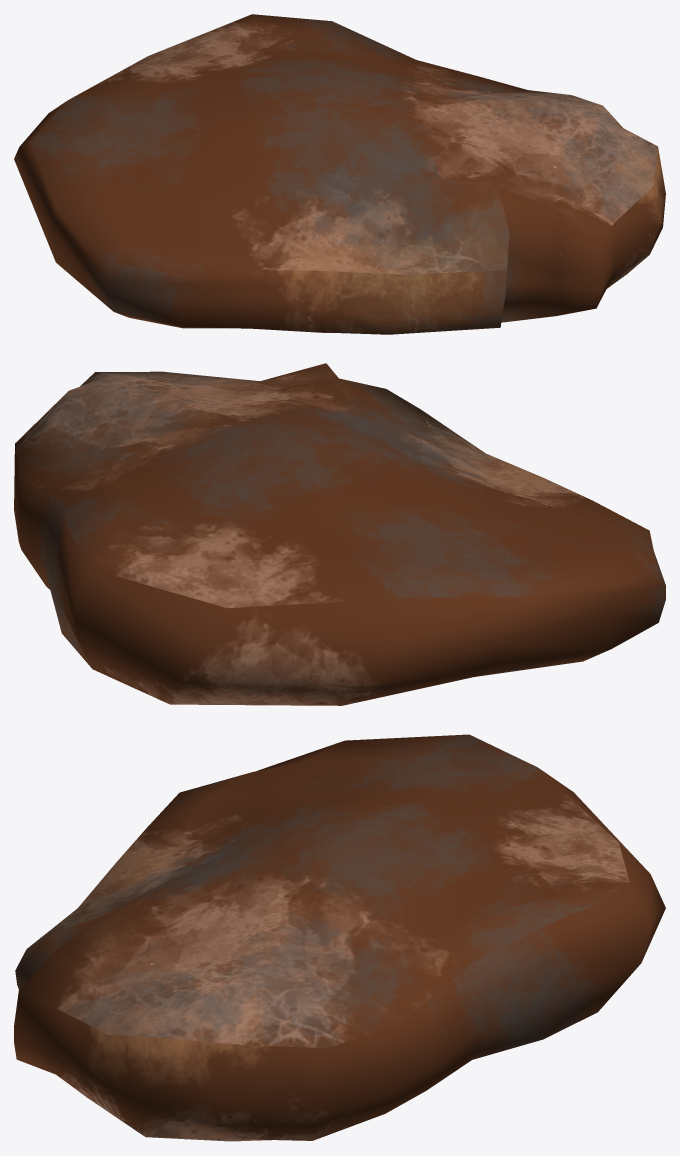
The model's file is MeteoritoBocaiuva.fbx.
3 views of the same model, one above another, from view 1: azimuth 30°, elevation 25°; view 2: azimuth 150°, elevation 25°; view 3: azimuth 270°, elevation 25° (orthographic). The views are drawn at different scales.
Visible parts, largest first — view 1: MeteoritoBocaiuva; view 2: MeteoritoBocaiuva; view 3: MeteoritoBocaiuva.
Part boxes in pixels (box(x1,y1,x2,y2)): MeteoritoBocaiuva: box(14, 14, 665, 334); MeteoritoBocaiuva: box(14, 363, 665, 705); MeteoritoBocaiuva: box(14, 734, 665, 1141).
Size of the model in its own units: 132 by 45.42 by 123.
